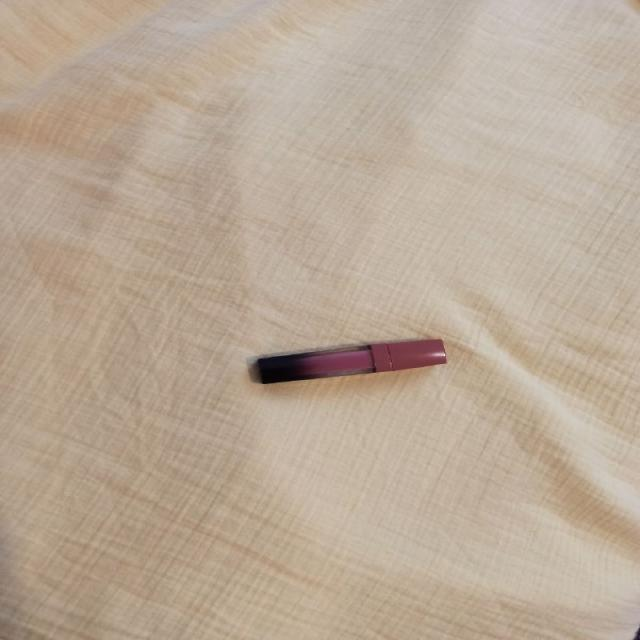lipstick: (256, 338, 447, 384)
